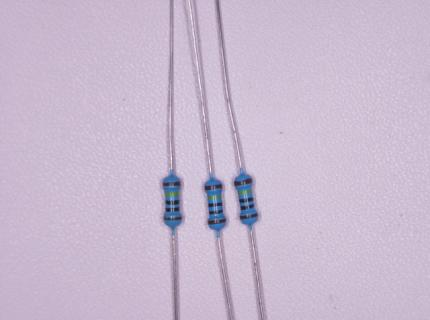Black band: (208, 202, 223, 208), (240, 204, 255, 210), (239, 197, 253, 203), (209, 210, 223, 215), (165, 200, 179, 205), (166, 207, 180, 212)
Brown band: (234, 178, 252, 186), (240, 213, 258, 220), (208, 218, 226, 225), (204, 183, 222, 190), (163, 216, 182, 221), (162, 181, 181, 186)
Yellow band: (207, 194, 222, 200), (238, 189, 252, 195), (165, 191, 179, 196)
